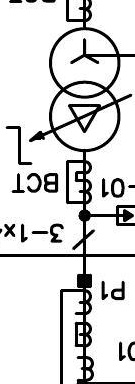11522_tx_dyn1: (48, 26, 121, 153)
